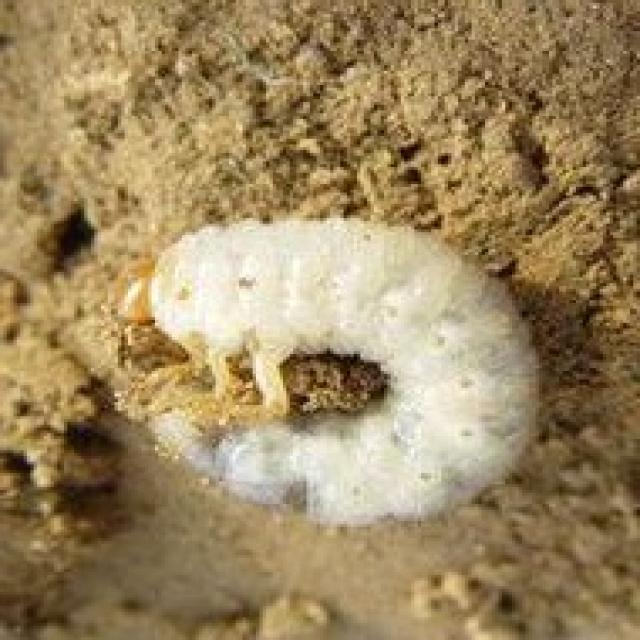grub: (144, 226, 552, 529)
